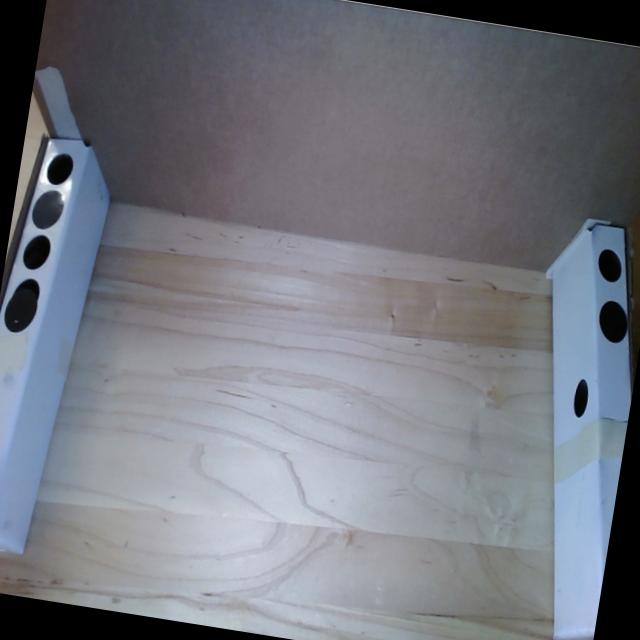Hole: (20, 230, 54, 274), (594, 242, 626, 288), (9, 276, 42, 315), (44, 148, 76, 188), (568, 374, 592, 424)
Sticker: (593, 296, 634, 348), (26, 186, 67, 232), (1, 287, 38, 335)
